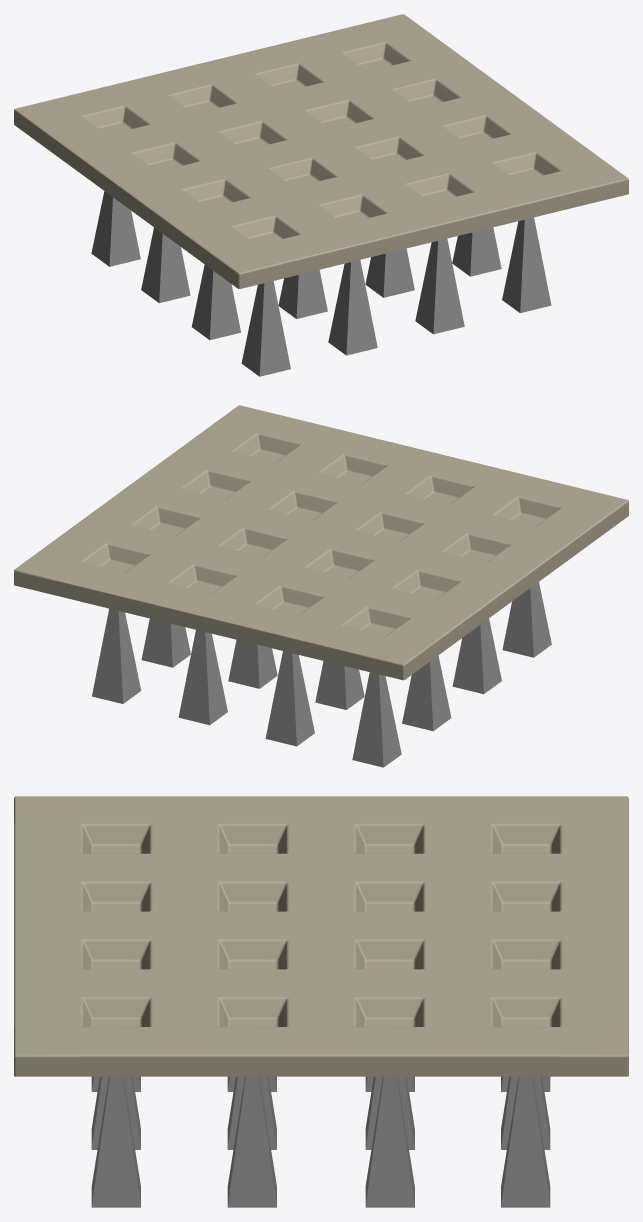
File: Spikes_HP.fbx
The picture shows the model from 3 angles, top to bottom: view 1: azimuth 30°, elevation 25°; view 2: azimuth 150°, elevation 25°; view 3: azimuth 270°, elevation 25°; orthographic projection. The views are drawn at different scales.
Visible parts, largest first — view 1: Floor_LP2, Spikes1; view 2: Floor_LP2, Spikes1; view 3: Floor_LP2, Spikes1.
Boxes of the visible parts, x1=… form: Floor_LP2: x1=14, y1=14, x2=628, y2=288; Spikes1: x1=91, y1=191, x2=551, y2=376; Floor_LP2: x1=14, y1=405, x2=628, y2=680; Spikes1: x1=92, y1=582, x2=551, y2=767; Floor_LP2: x1=14, y1=796, x2=628, y2=1076; Spikes1: x1=91, y1=1076, x2=550, y2=1207.
Bounding box in the file's own units: 130 × 43.23 × 130.
